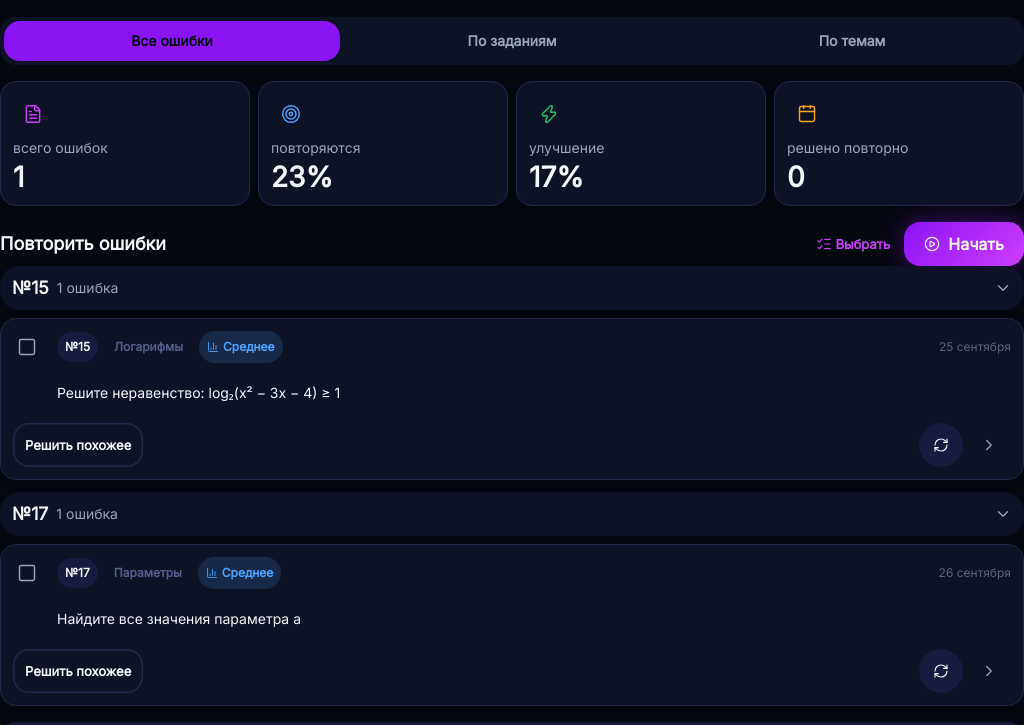
Test: MistakesMobile — "Решить похожее" (deterministic similarity engine) › on a real candidate list, opens the first similar task carrying the whole list as customOrderedTasks
The width and height of the screenshot is (1024, 725).
Expected: the button "Решите неравенство: log₂(x² − 3x − 4) ≥ 1" is shown, 13,371 -> 1011,415
Click the button "Решить похожее" below "Логарифмы": coordinates (78, 445) 13,423 -> 143,467
(page scrolled)
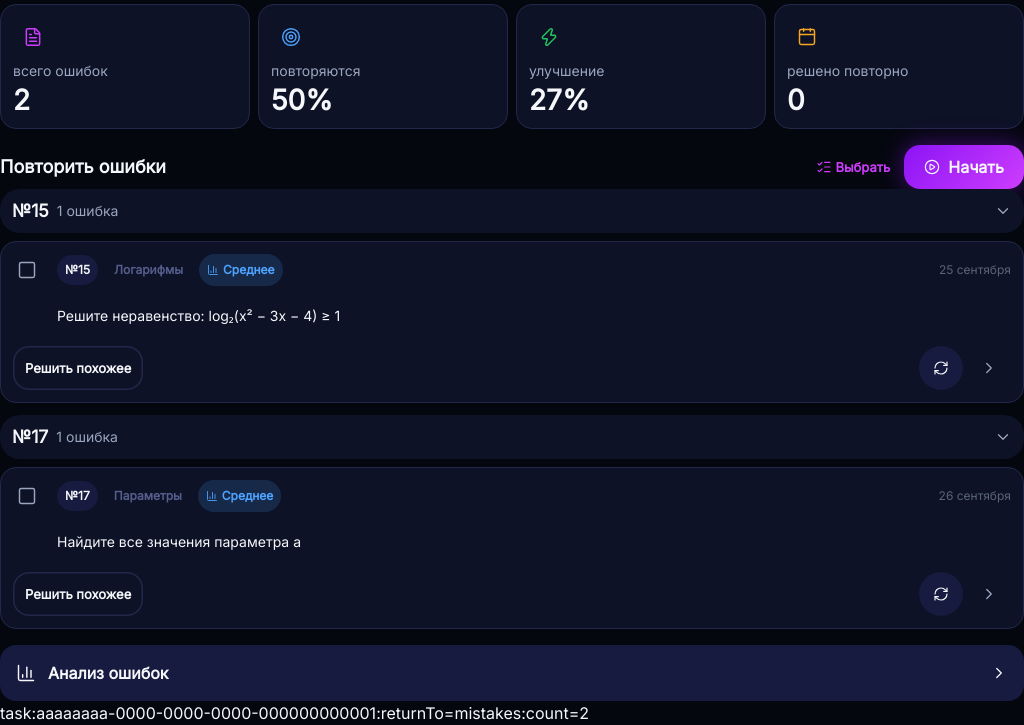
Now the text with test id "overlay" reads "task:aaaaaaaa-0000-0000-0000-000000000001:returnTo=mistakes:count=2", box 0,703 -> 589,723
